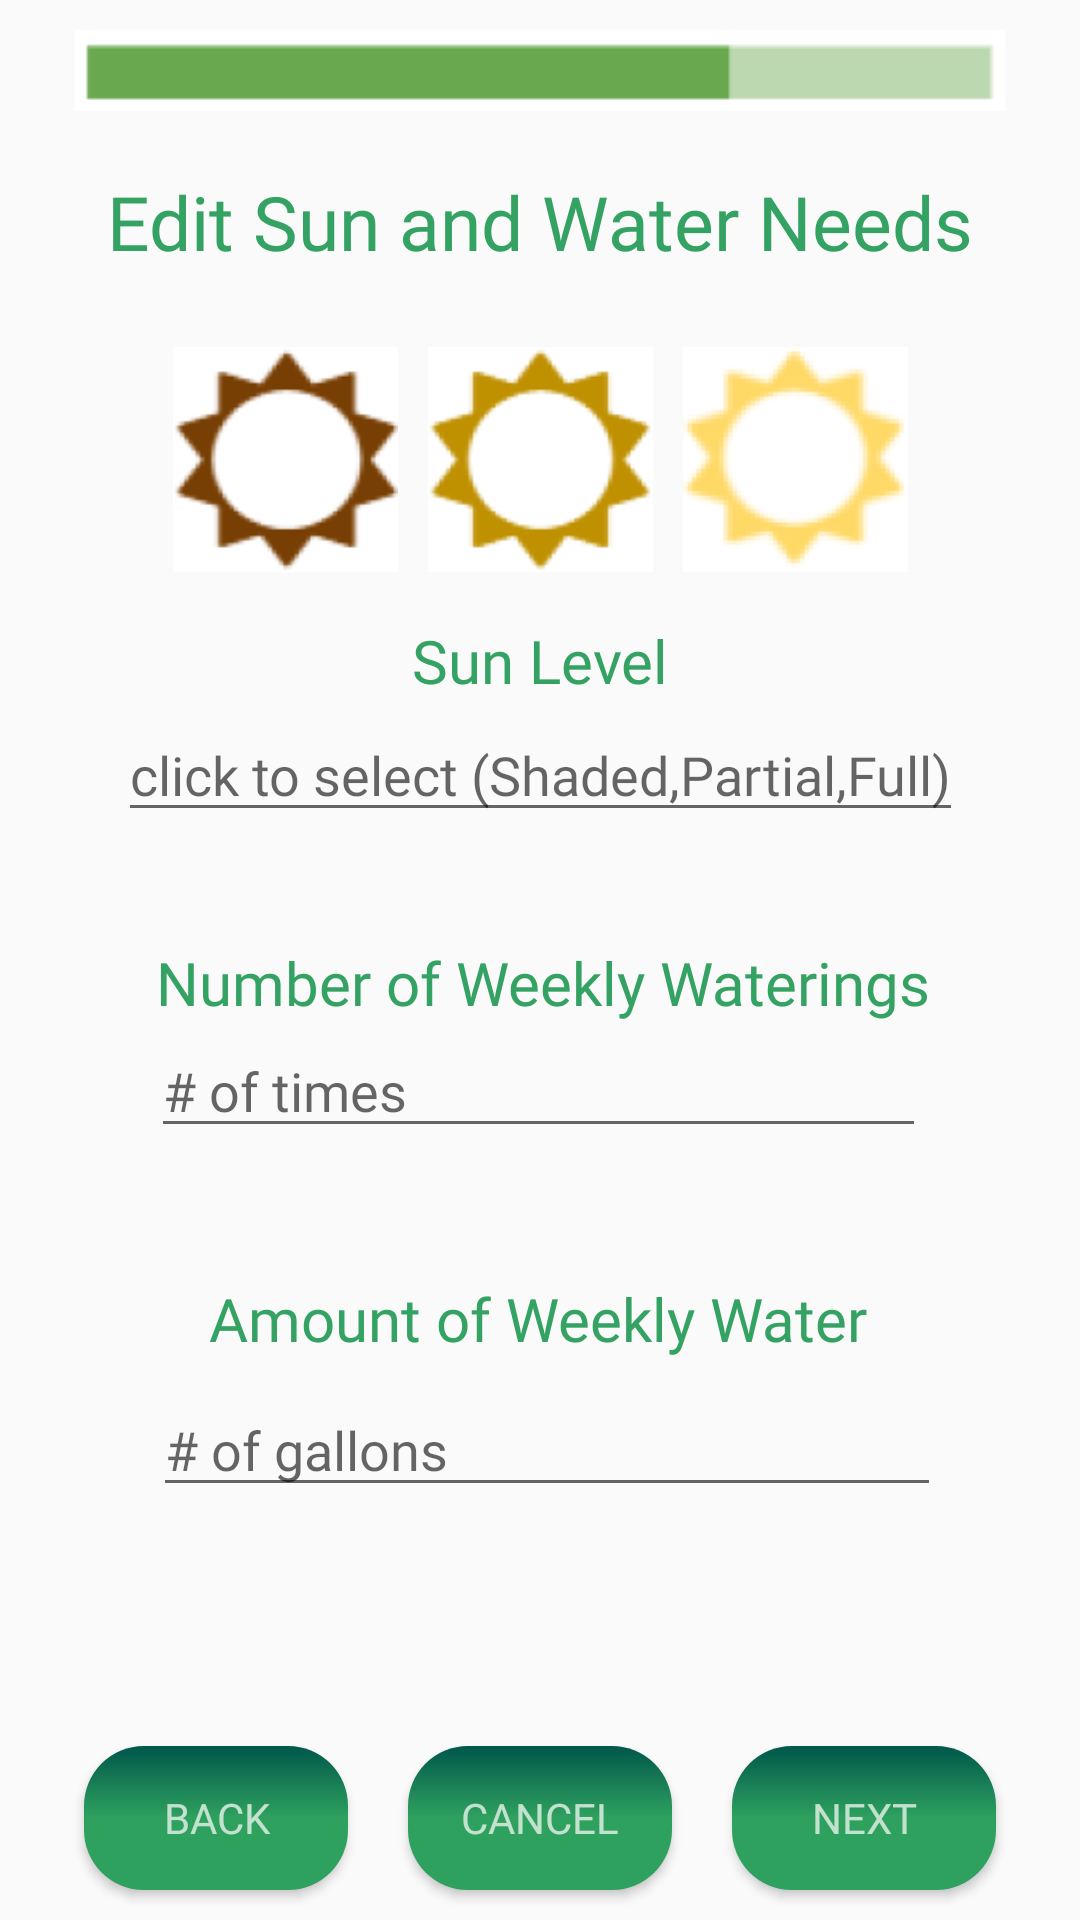

Named icons in this screenshot (1080×1920) and their centers, point (x, y):
full sun: point (793, 457)
partial sun: point (540, 460)
shady sun: point (286, 460)
